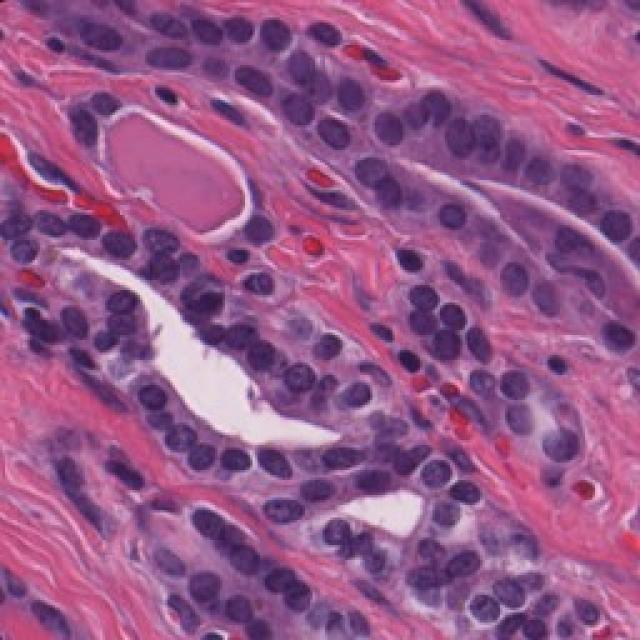normal: (297, 96, 362, 166), (268, 343, 329, 414), (110, 356, 173, 424), (370, 100, 429, 168), (410, 431, 466, 496), (234, 193, 290, 255), (145, 201, 197, 266), (250, 441, 310, 495), (497, 248, 537, 329), (351, 448, 403, 508), (87, 212, 134, 275), (216, 426, 257, 497), (428, 188, 472, 247), (278, 78, 318, 141), (405, 266, 447, 322)
